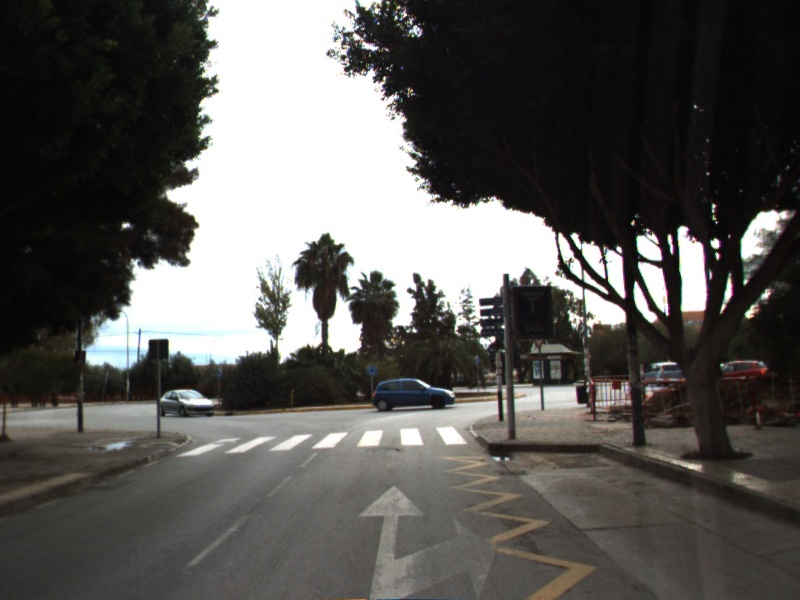STRAIGHT_RIGHT: (355, 482, 502, 600)
